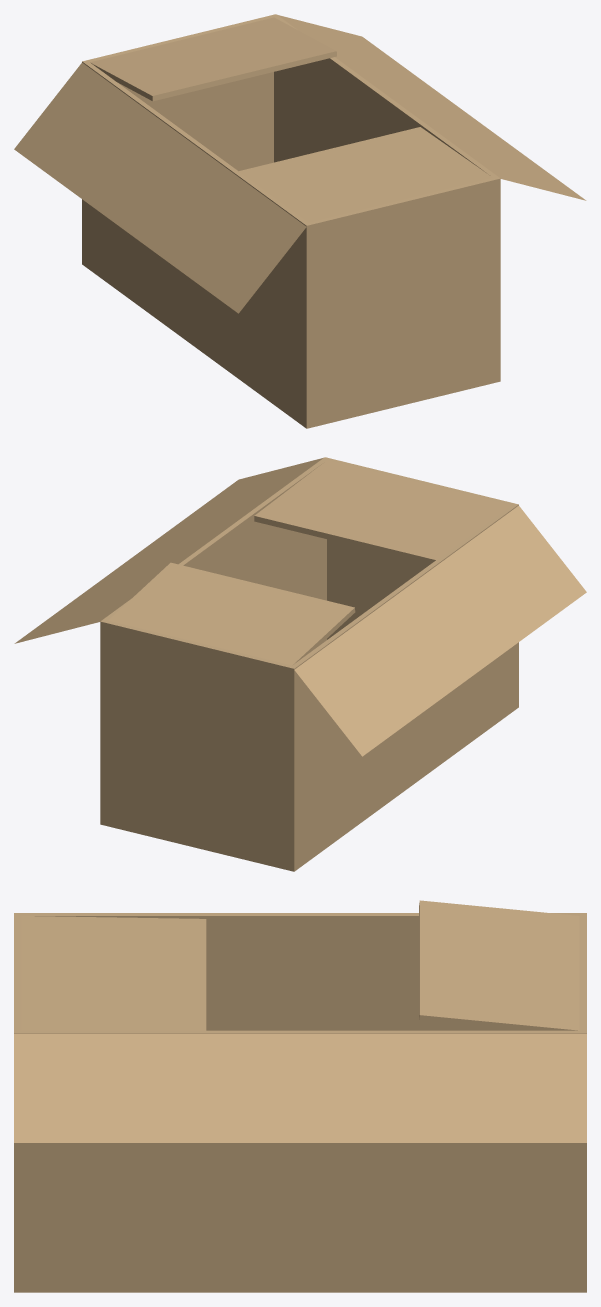
The picture shows the model from 3 angles, top to bottom: view 1: azimuth 30°, elevation 25°; view 2: azimuth 150°, elevation 25°; view 3: azimuth 270°, elevation 25°; orthographic projection. The views are drawn at different scales.
Parts seen in each view (by area): view 1: Box; view 2: Box; view 3: Box.
Boxes of the visible parts, <box> form: Box: <box>14,14,586,428</box>; Box: <box>14,457,586,871</box>; Box: <box>14,900,586,1292</box>.
Bounding box in the file's own units: 83.71 × 49.41 × 93.5.
